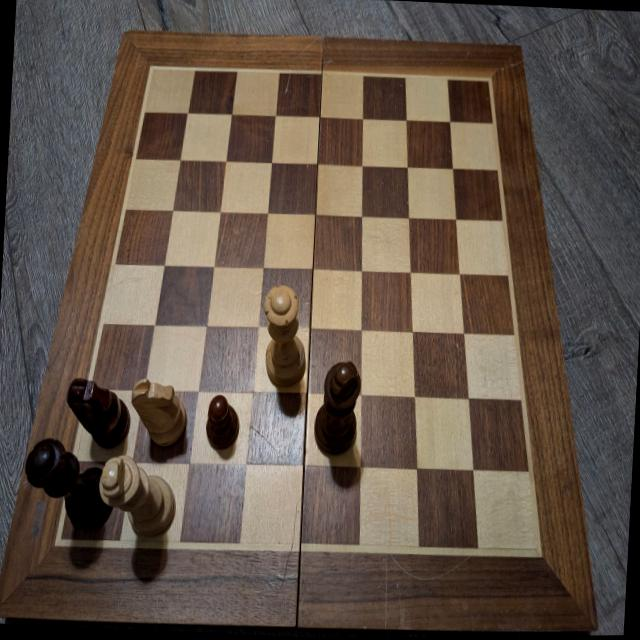black_king: (312, 359, 362, 457)
black_knight: (66, 377, 134, 448)
black_pawn: (204, 394, 241, 450)
black_queen: (22, 436, 113, 533)
white_king: (96, 453, 177, 538)
white_knight: (130, 378, 190, 449)
white_queen: (260, 284, 310, 390)
